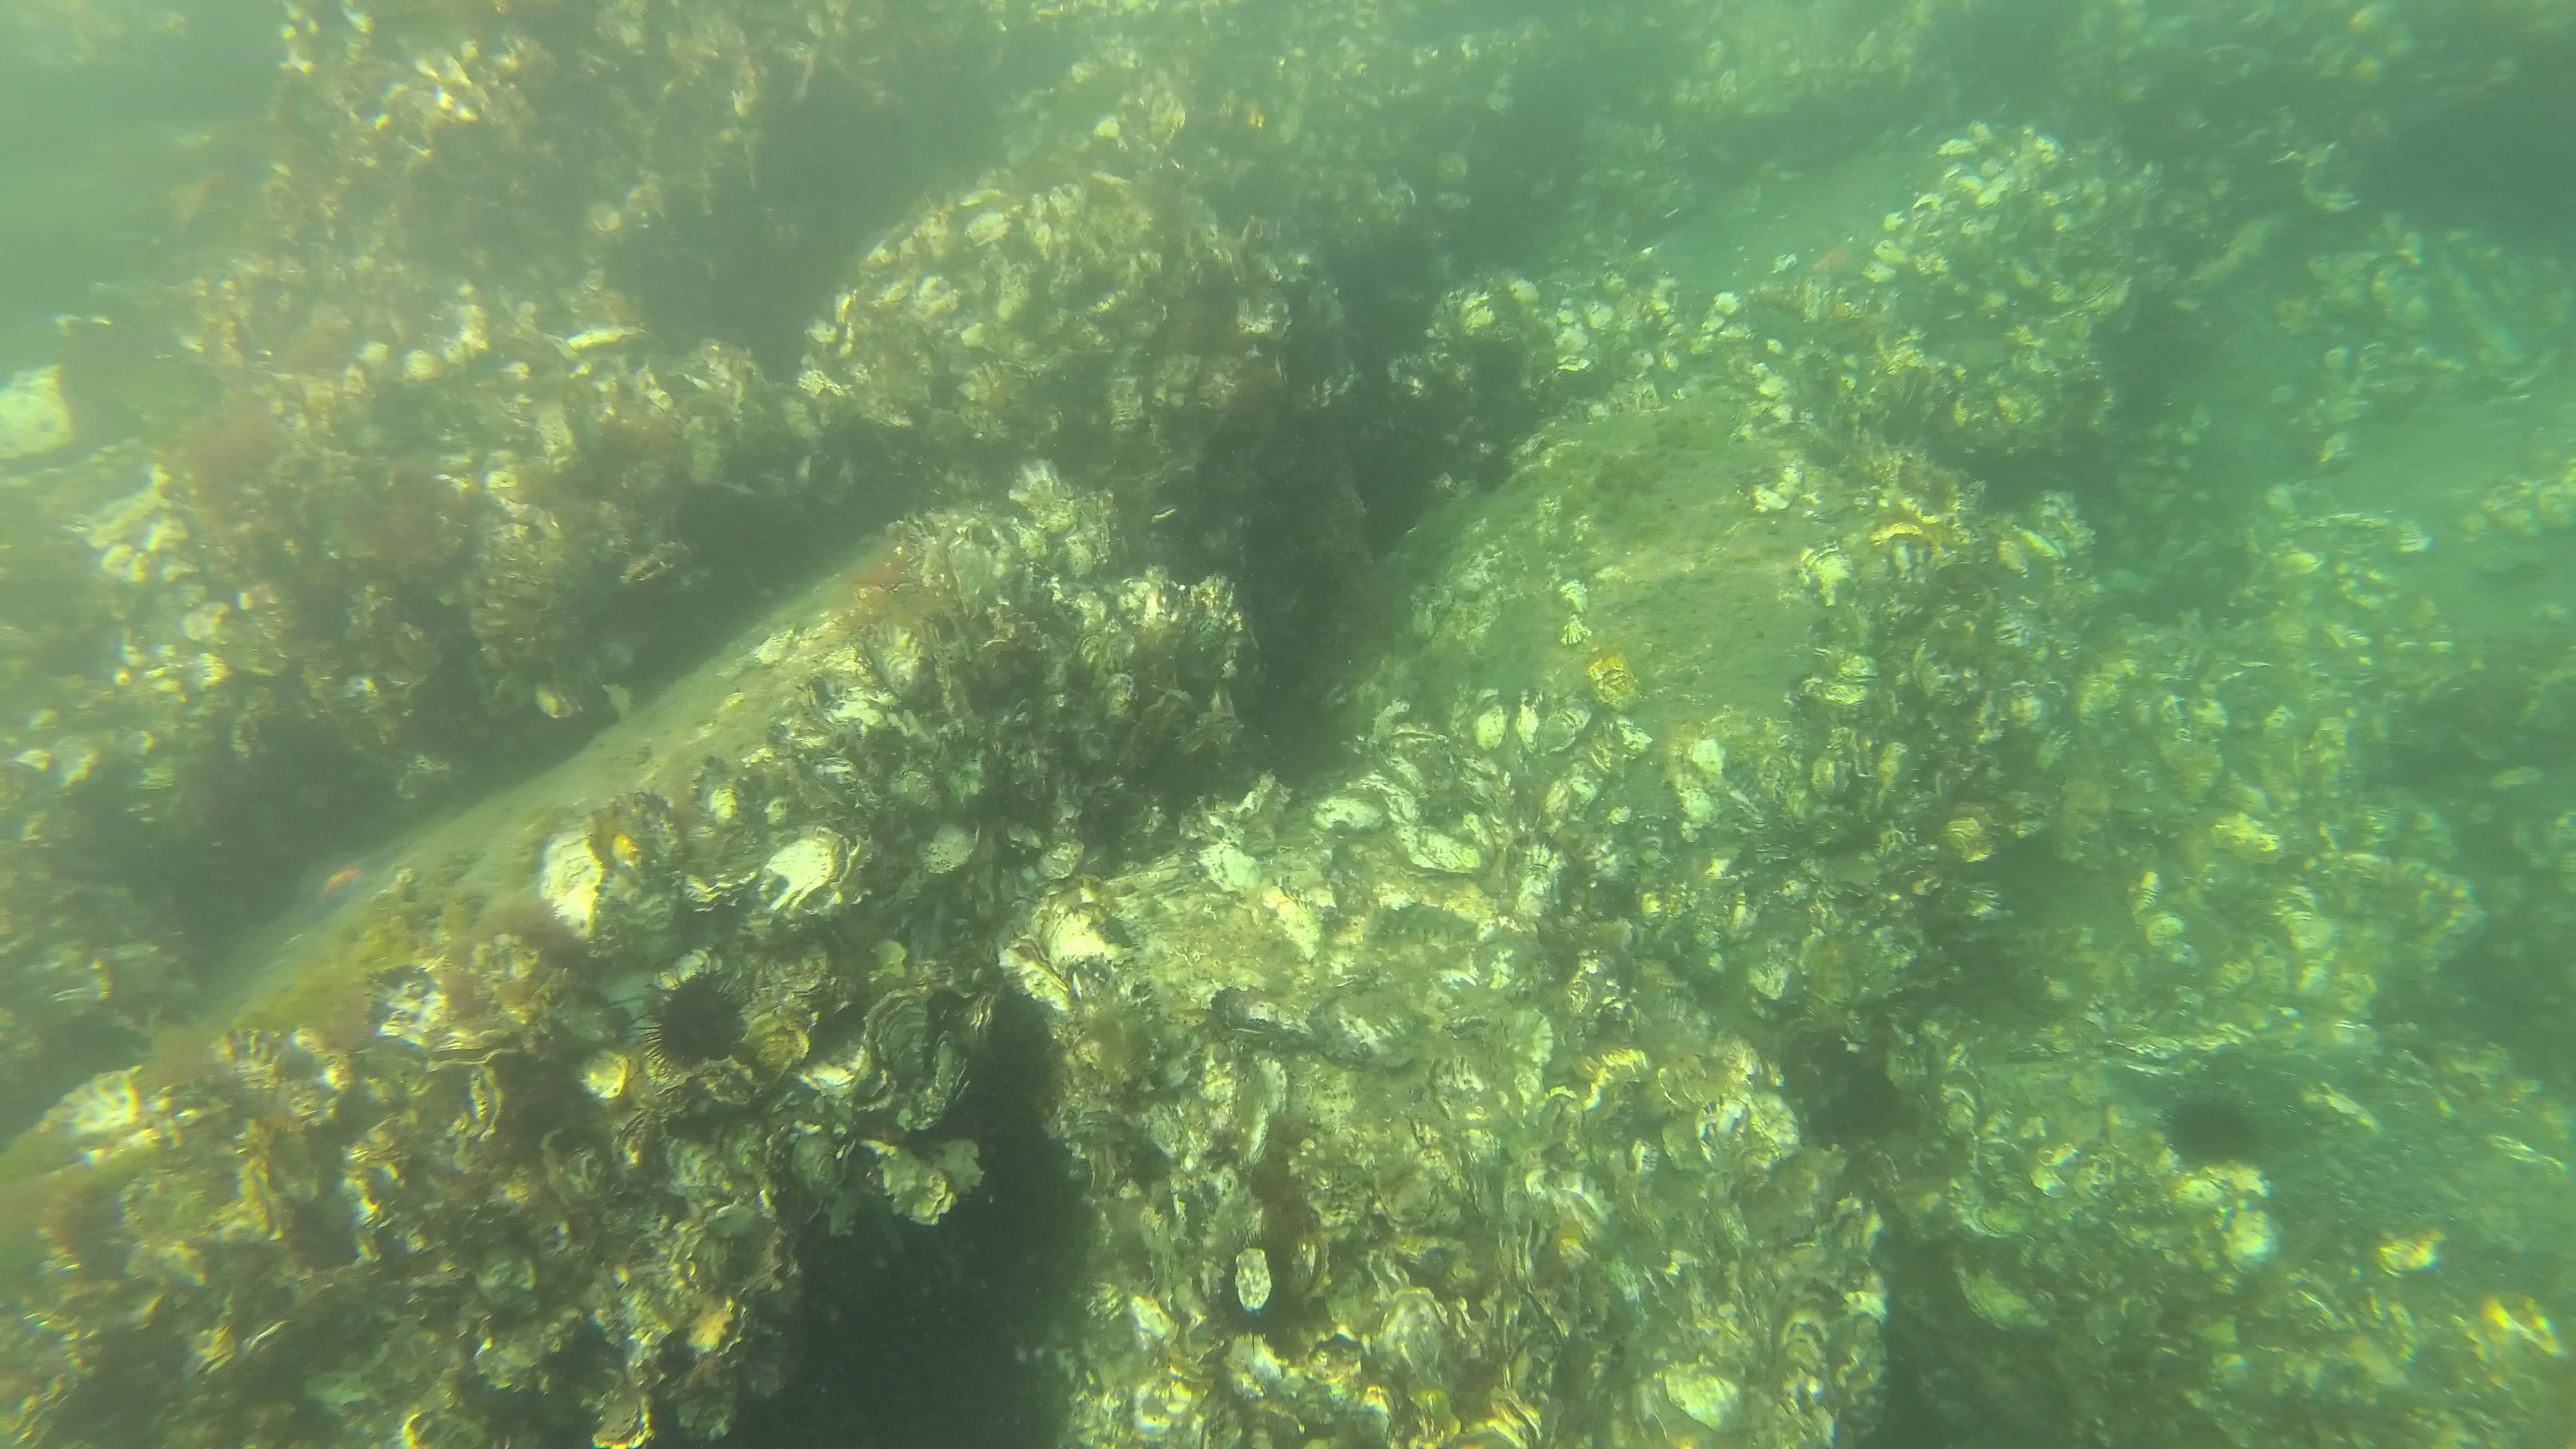echinus: (633, 964, 752, 1069), (2158, 1088, 2259, 1175), (1468, 336, 1525, 395), (1477, 455, 1516, 495)
starfish: (294, 839, 410, 929)
